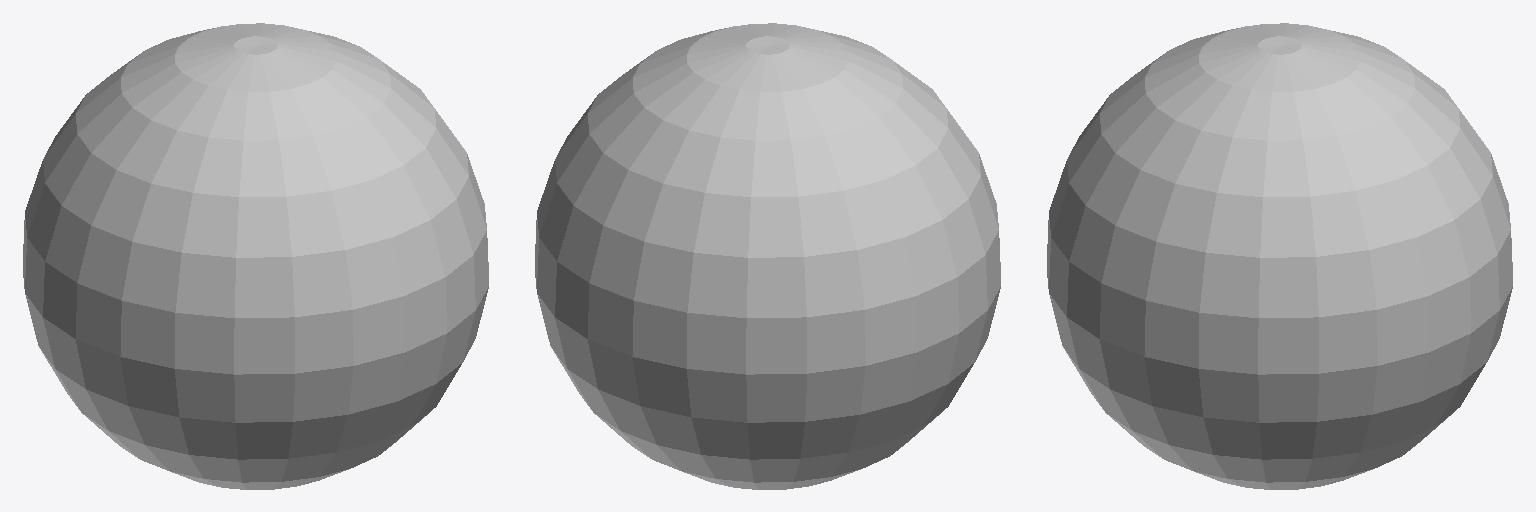
File: ball.obj
3 renders of one model, left to right at view 1: azimuth 30°, elevation 25°; view 2: azimuth 150°, elevation 25°; view 3: azimuth 270°, elevation 25°, orthographic.
Parts seen in each view (by area): view 1: Mesh1 Ball1 Model; view 2: Mesh1 Ball1 Model; view 3: Mesh1 Ball1 Model.
Part boxes in pixels (x1,y1,x2,y2): Mesh1 Ball1 Model: (23,23,488,489); Mesh1 Ball1 Model: (535,23,1000,489); Mesh1 Ball1 Model: (1047,23,1512,489).
Size of the model in its own units: 10.62 by 10.57 by 10.62.